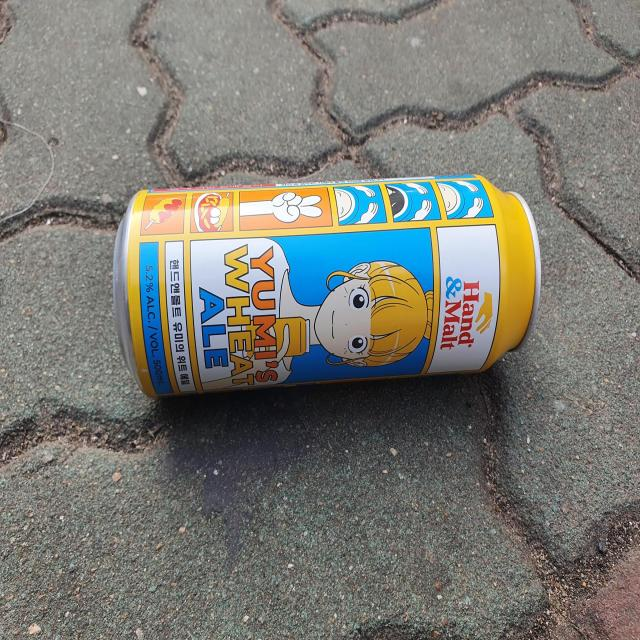can: (113, 174, 542, 397)
